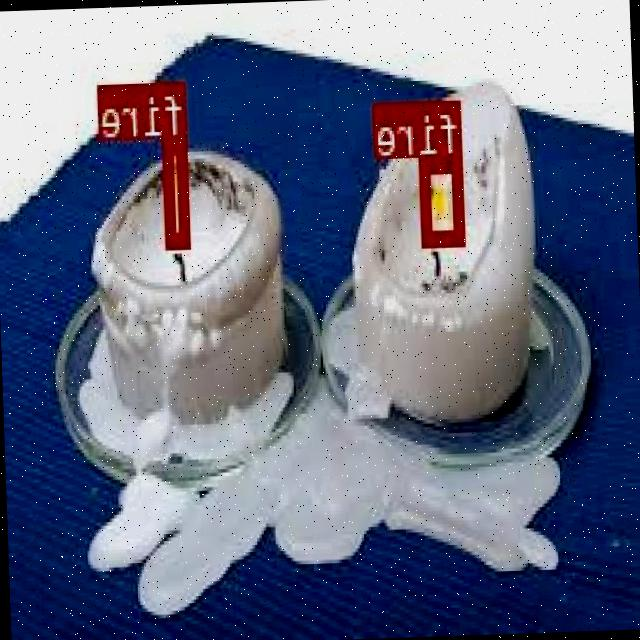fire: (421, 153, 466, 242), (164, 136, 192, 246)
